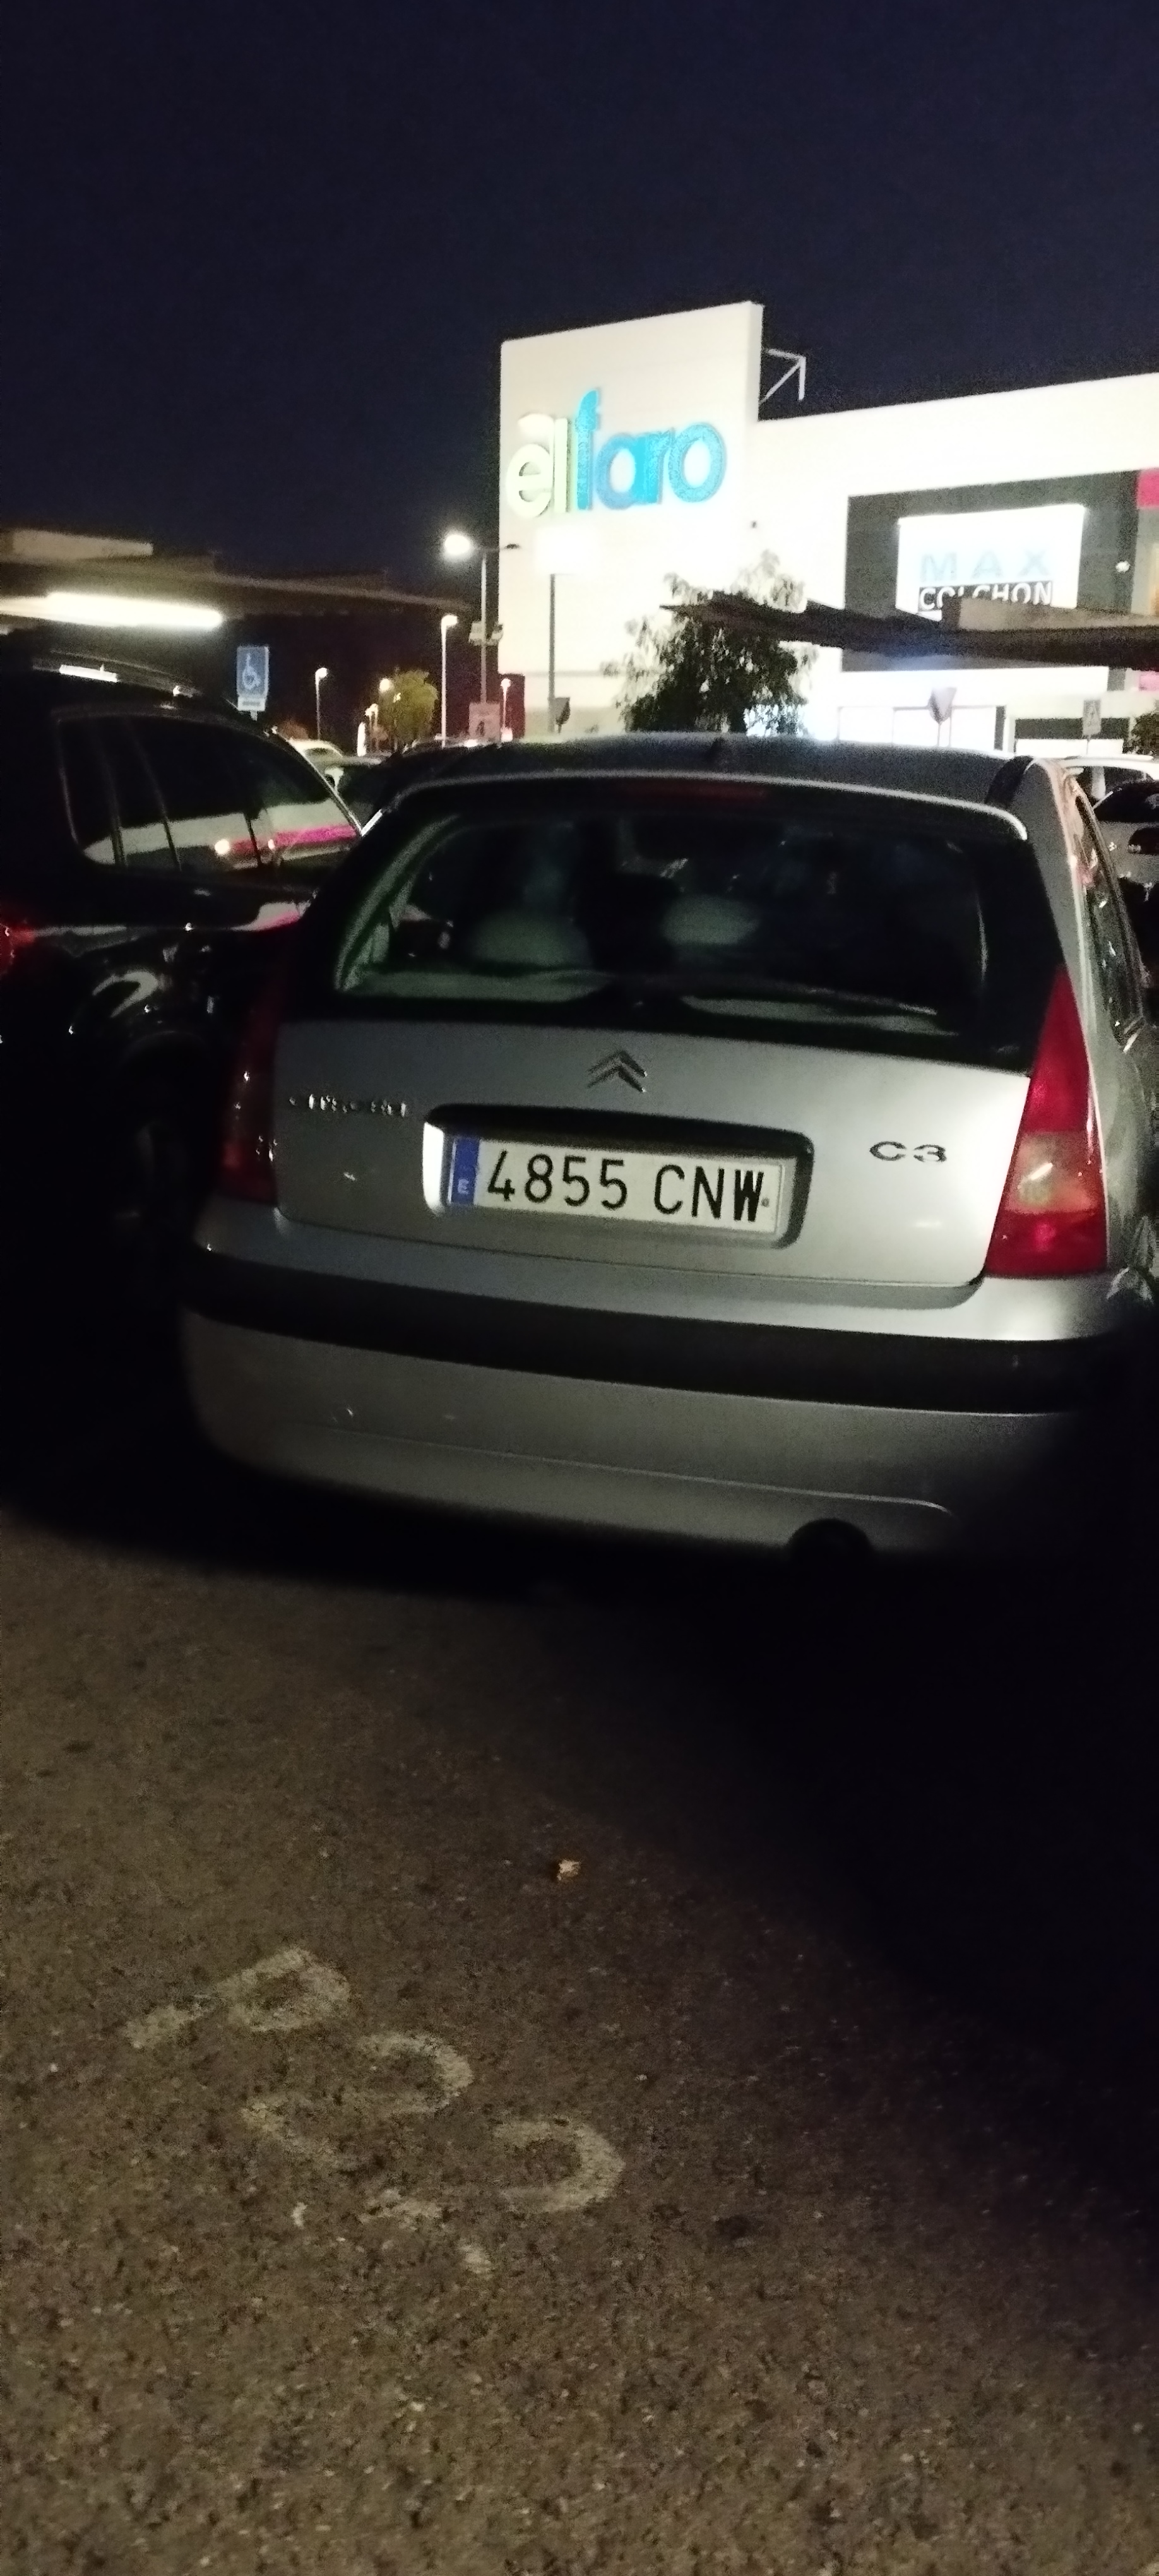Car: (186, 744, 1150, 1556)
Plate: (442, 1131, 792, 1212)
